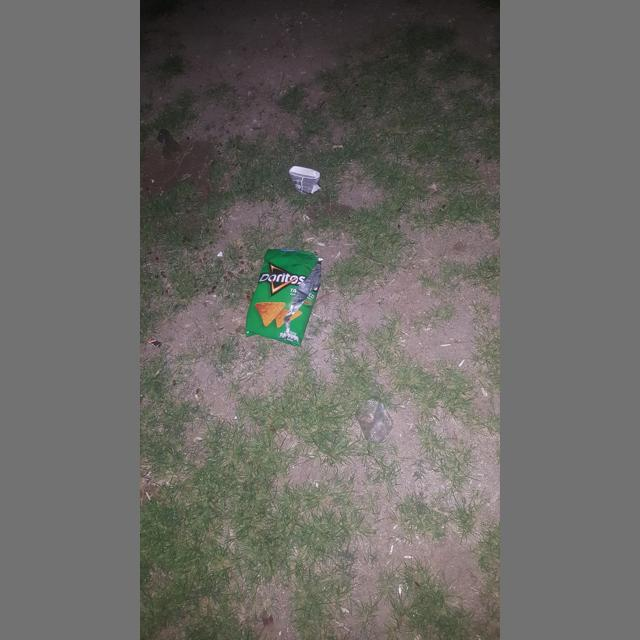litter: (246, 248, 324, 346), (355, 396, 394, 444), (289, 166, 321, 194)
